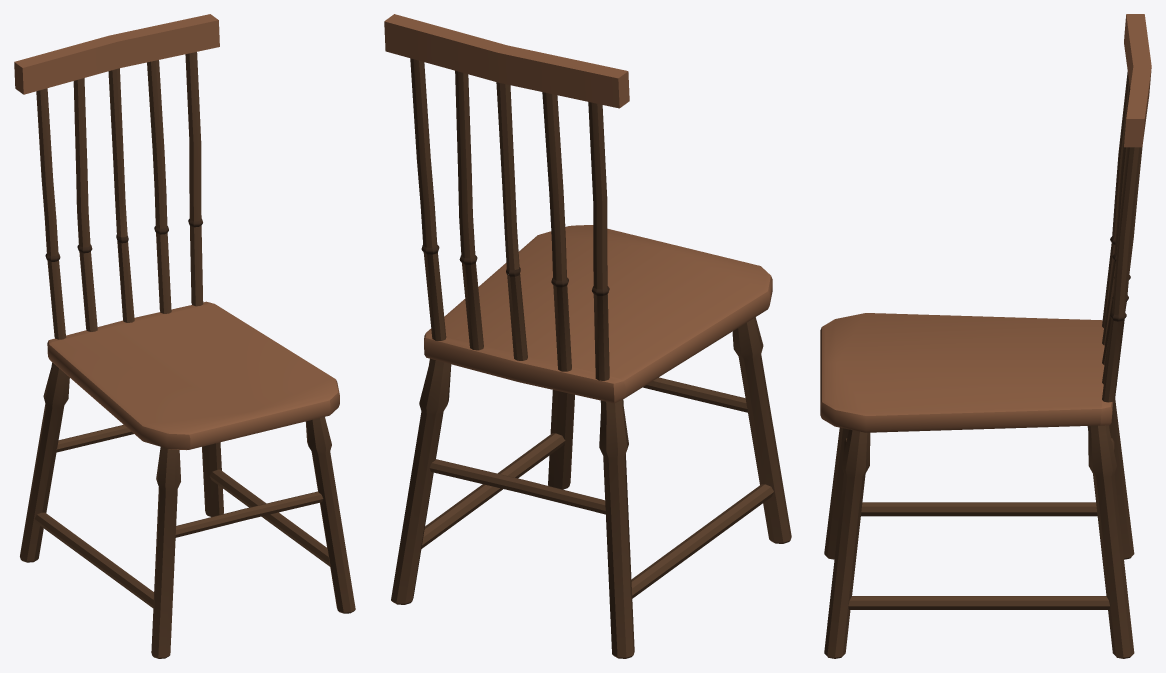
Rendered from chair.fbx.
The picture shows the model from 3 angles, left to right: view 1: azimuth 30°, elevation 25°; view 2: azimuth 150°, elevation 25°; view 3: azimuth 270°, elevation 25°; orthographic projection. The views are drawn at different scales.
Parts seen in each view (by area): view 1: Cube; view 2: Cube; view 3: Cube.
Part boxes in pixels (bbox=[...]): Cube: bbox=[14, 14, 355, 658]; Cube: bbox=[384, 14, 791, 658]; Cube: bbox=[820, 14, 1151, 658].
Size of the model in its own units: 1.07 by 2.47 by 1.38.
